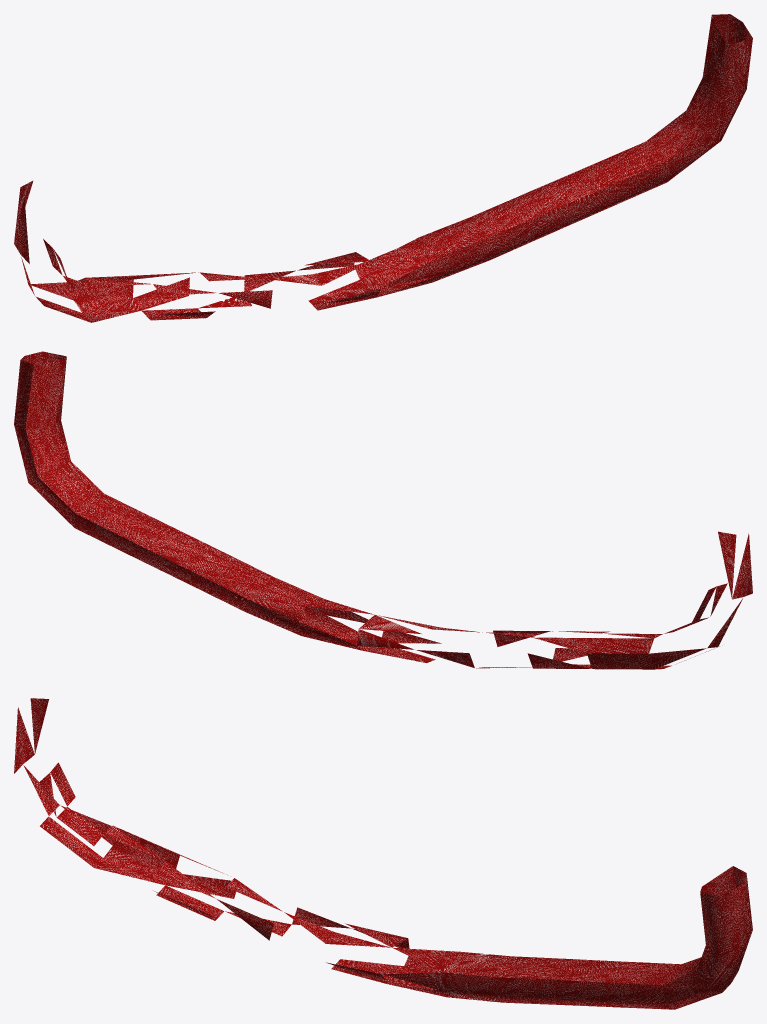
The picture shows the model from 3 angles, top to bottom: view 1: azimuth 30°, elevation 25°; view 2: azimuth 150°, elevation 25°; view 3: azimuth 330°, elevation 25°; orthographic projection.
Bounding box in the file's own units: 0.918 × 0.2411 × 0.0982.
